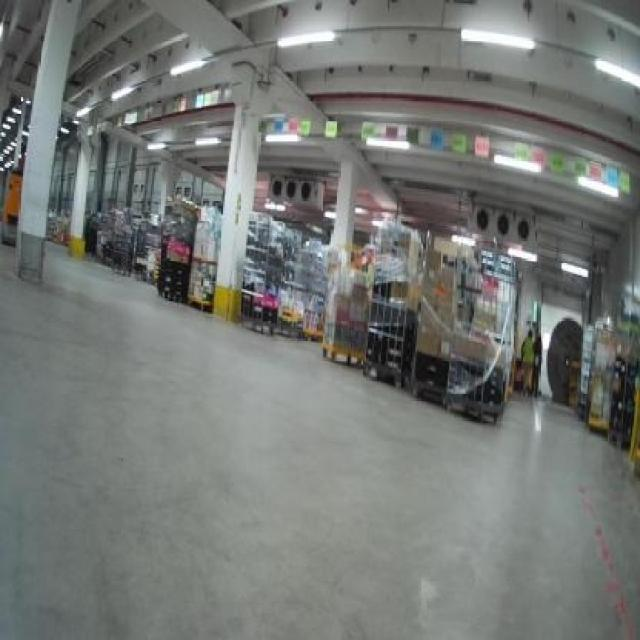floor: (0, 242, 637, 637)
pallets: (411, 232, 514, 420)
